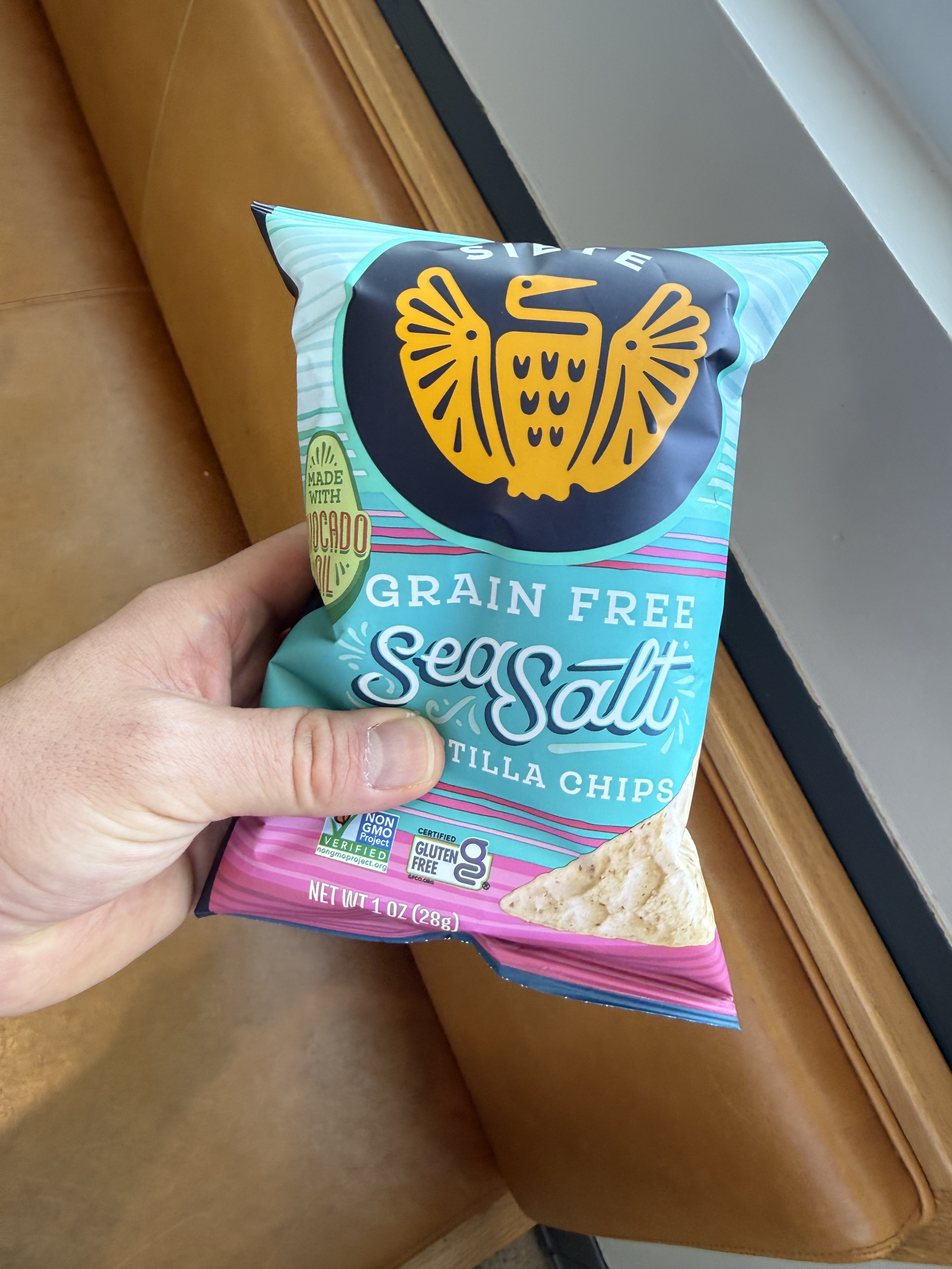sea_salt: (289, 205, 773, 929)
